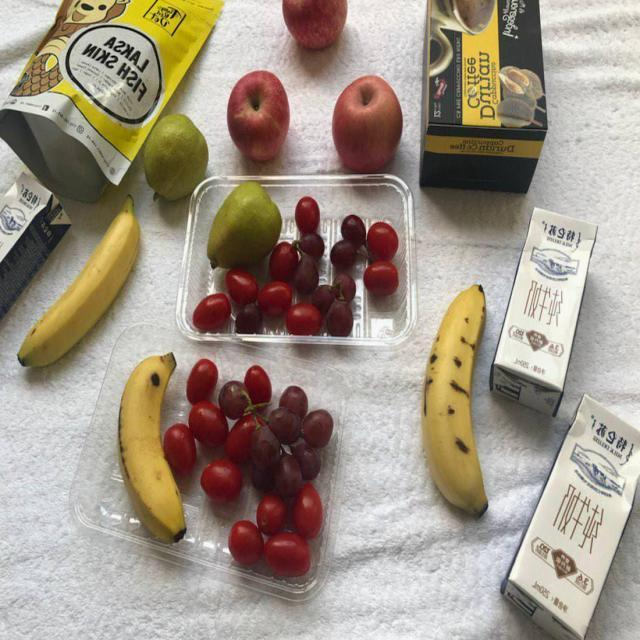Apple: (219, 62, 300, 171), (326, 72, 407, 180), (278, 0, 352, 53)
Banana: (12, 192, 142, 364), (416, 272, 491, 524), (114, 338, 190, 548)
